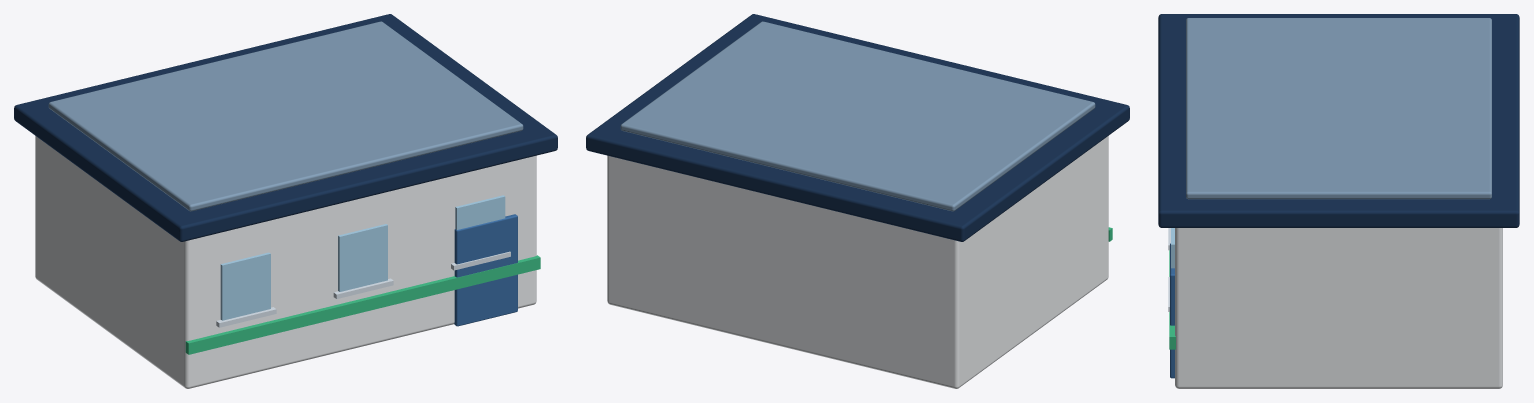
The model's file is edificio.glb.
3 views of the same model, side by side, from view 1: azimuth 30°, elevation 25°; view 2: azimuth 150°, elevation 25°; view 3: azimuth 270°, elevation 25° (orthographic). The views are drawn at different scales.
Size of the model in its own units: 8.6 by 3.9 by 6.6.
